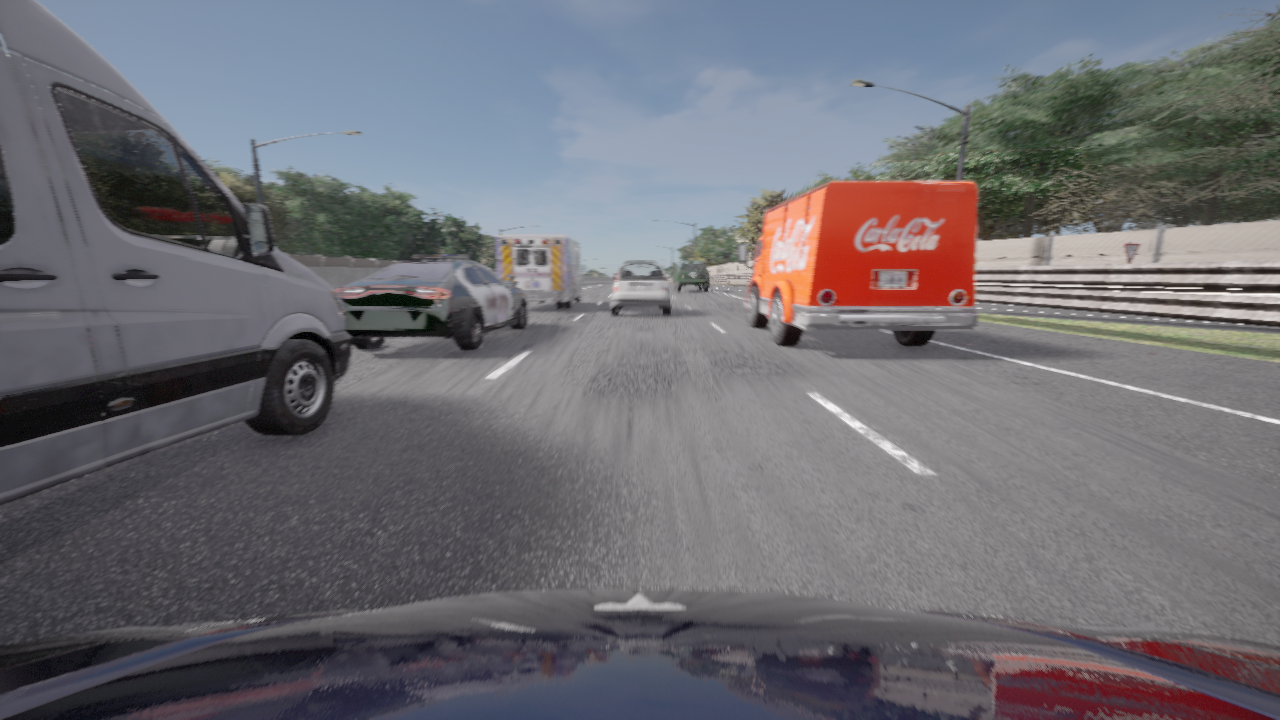cyclist: (0, 588, 1279, 719), (738, 181, 977, 345), (334, 254, 527, 349), (495, 235, 587, 308), (611, 260, 670, 315), (672, 262, 708, 292)
